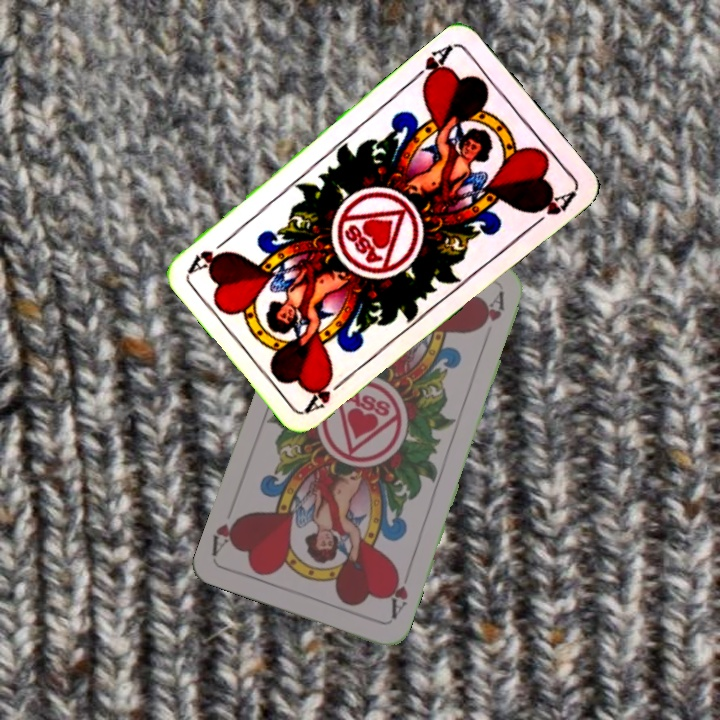HA: (408, 40, 456, 91), (301, 370, 352, 415), (384, 565, 411, 622)
